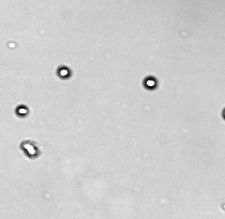Living Cell: (19, 140, 40, 159), (142, 75, 158, 90), (56, 65, 71, 78), (15, 104, 29, 117)
